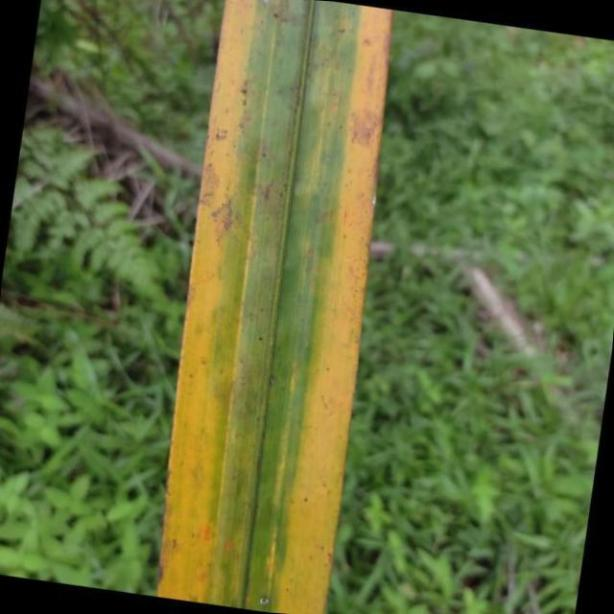Megnesium: (153, 0, 391, 614)
